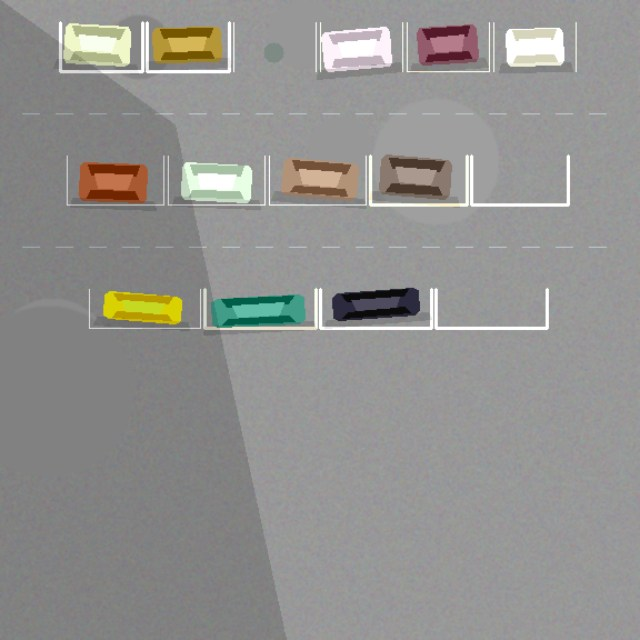space-empty: (471, 156, 568, 204), (436, 289, 547, 328), (233, 22, 316, 71)
space-occupied: (269, 156, 366, 204), (370, 156, 467, 204), (67, 156, 163, 204), (168, 156, 264, 204), (204, 289, 316, 328), (89, 289, 200, 328), (320, 289, 431, 328), (493, 22, 576, 71), (60, 22, 142, 71), (147, 22, 229, 71), (320, 22, 402, 71), (407, 22, 489, 71)
